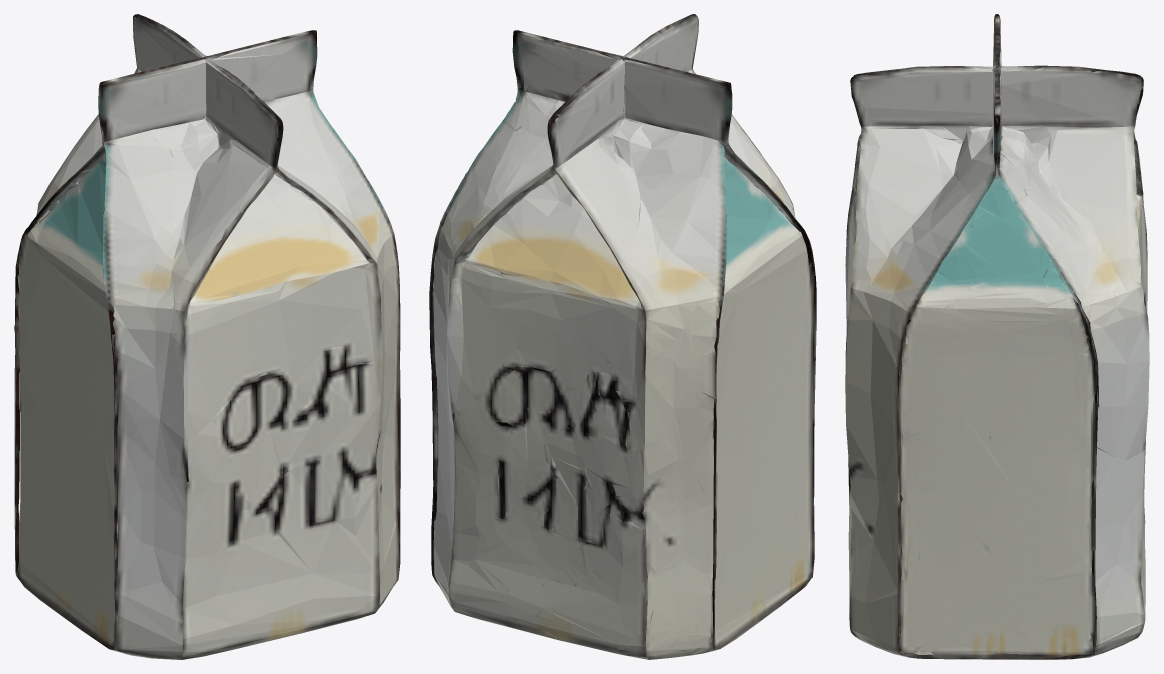
File: oat.glb
The picture shows the model from 3 angles, left to right: view 1: azimuth 30°, elevation 25°; view 2: azimuth 150°, elevation 25°; view 3: azimuth 270°, elevation 25°; orthographic projection.
Visible parts, largest first — view 1: world; view 2: world; view 3: world.
Boxes of the visible parts, x1=… form: world: x1=14, y1=14, x2=400, y2=659; world: x1=429, y1=14, x2=816, y2=659; world: x1=845, y1=14, x2=1149, y2=659.
Size of the model in its own units: 0.5619 by 0.9969 by 0.5168.
1 material, 1 textured.
